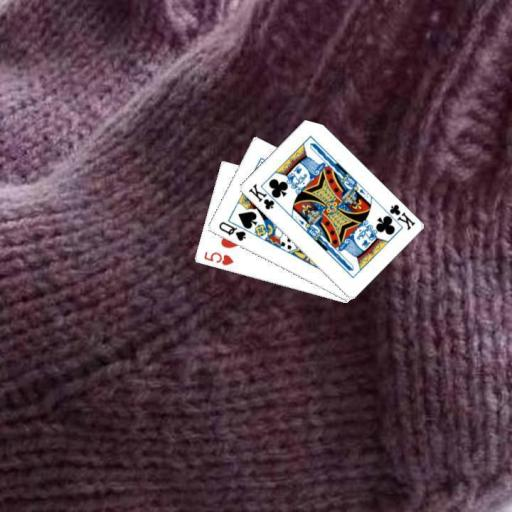card-corner: (380, 201, 416, 232), (245, 181, 282, 211), (216, 218, 248, 242), (200, 248, 234, 268)
